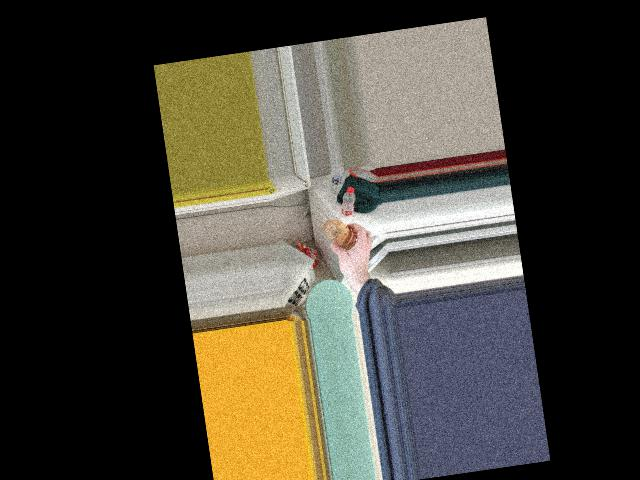sweet_potato: (324, 217, 357, 254)
